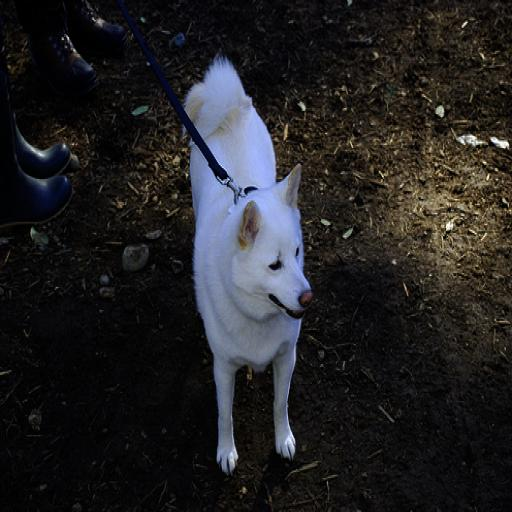dog_face: (232, 167, 318, 326)
